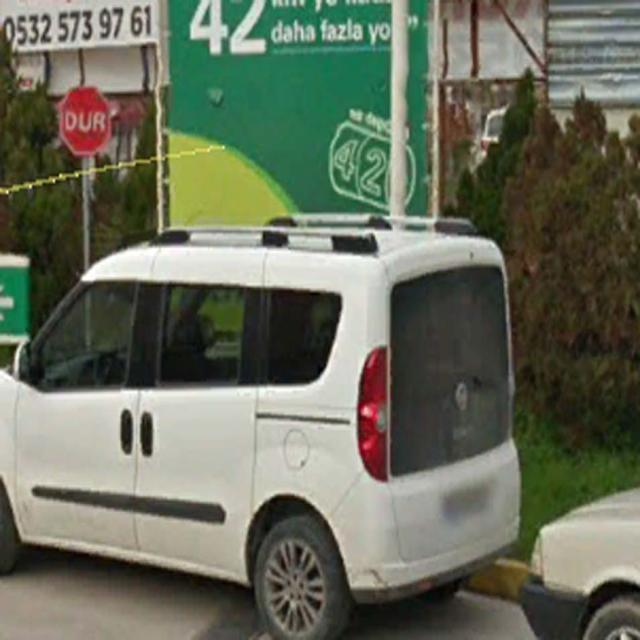dur: (59, 87, 111, 157)
